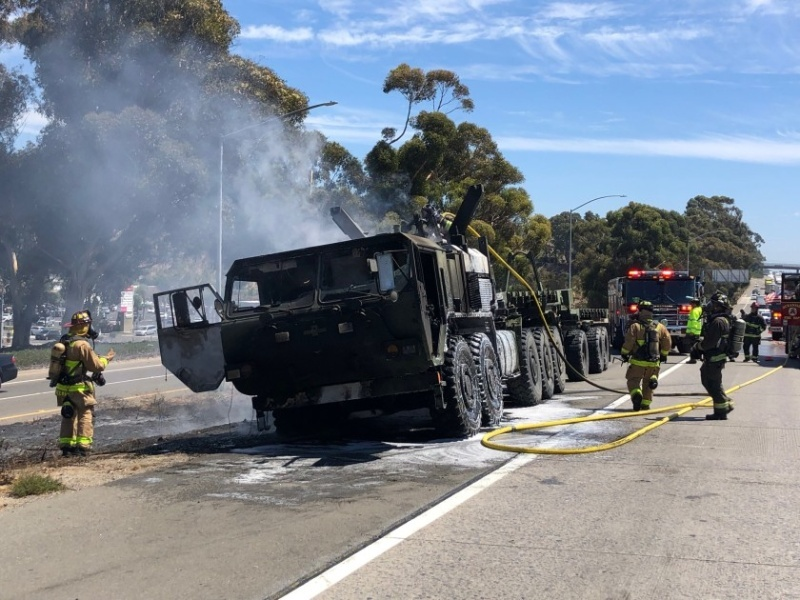smoke: (1, 42, 318, 254)
